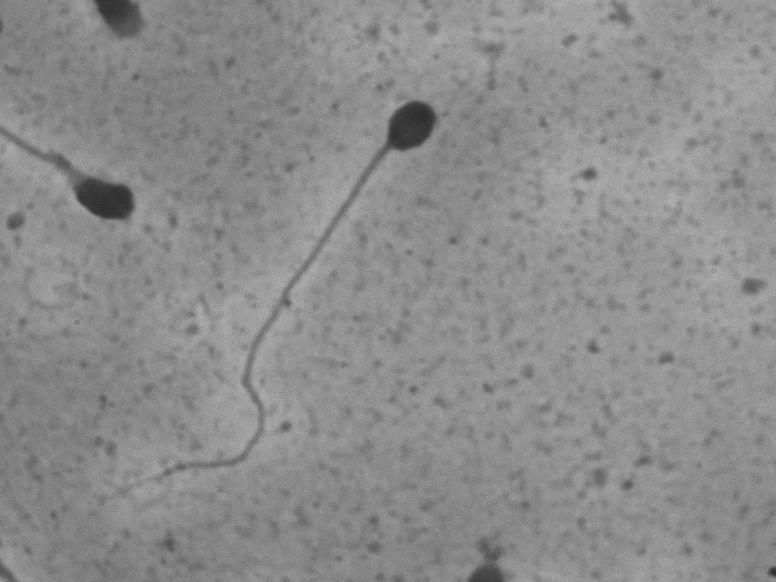Abnormal: (180, 70, 446, 519), (29, 93, 166, 255)
